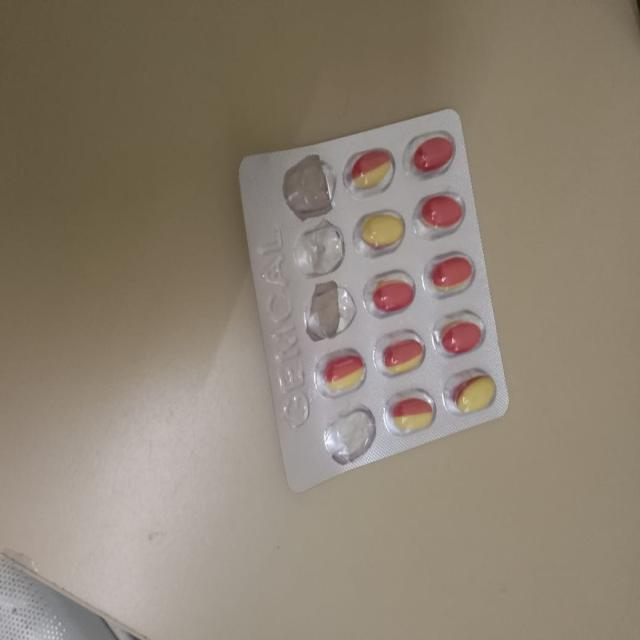medicine: (208, 98, 545, 533)
